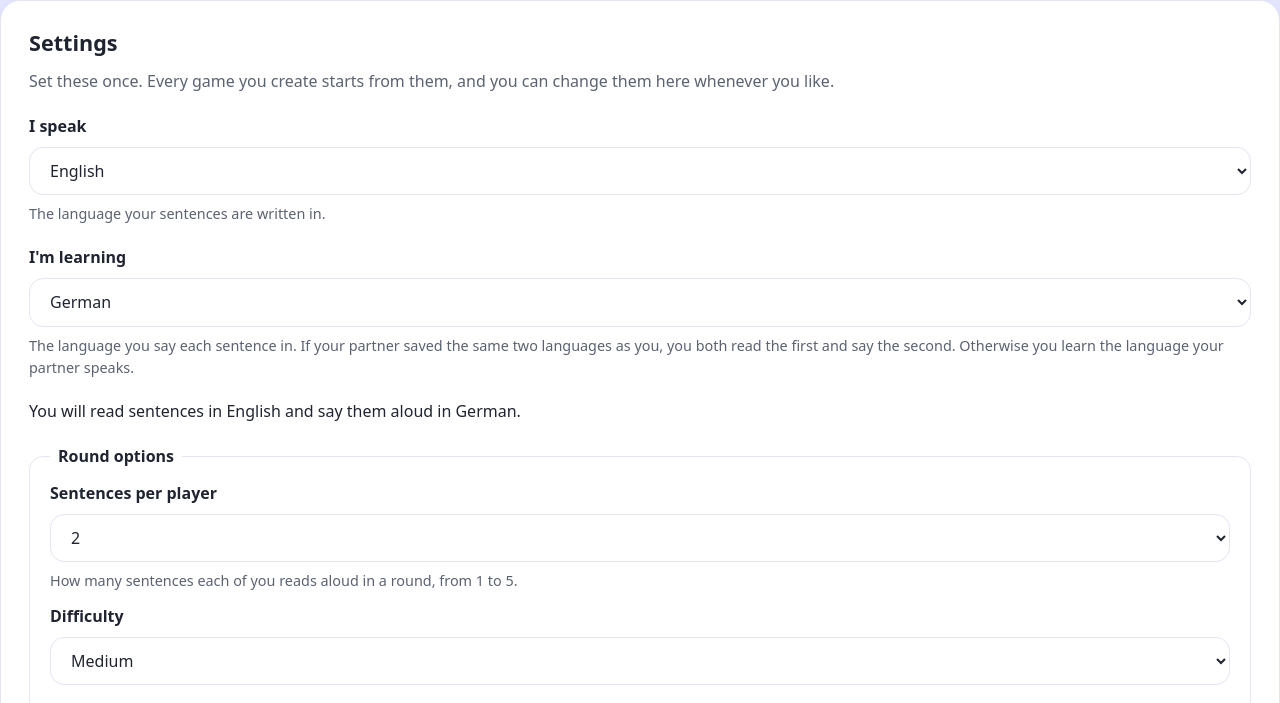
it: joining through an invite link › asks a guest without settings for them first, saves them and then joins
Check: the heading "Settings" is shown, box [29, 28, 118, 57]
Select "English" in the dropdown labelled "I speak" at (640, 171), box [29, 147, 1251, 195]
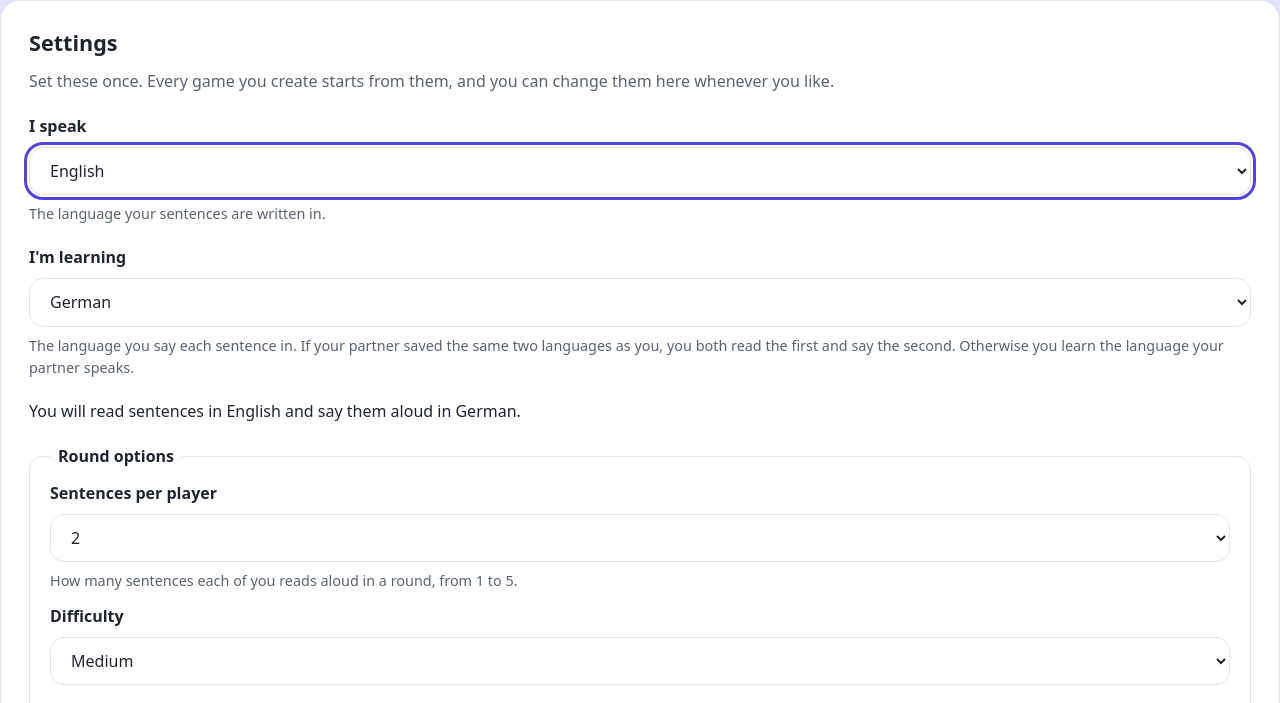
Select "German" in the dropdown labelled "I'm learning" at (640, 302), box [29, 278, 1251, 327]
(page scrolled)
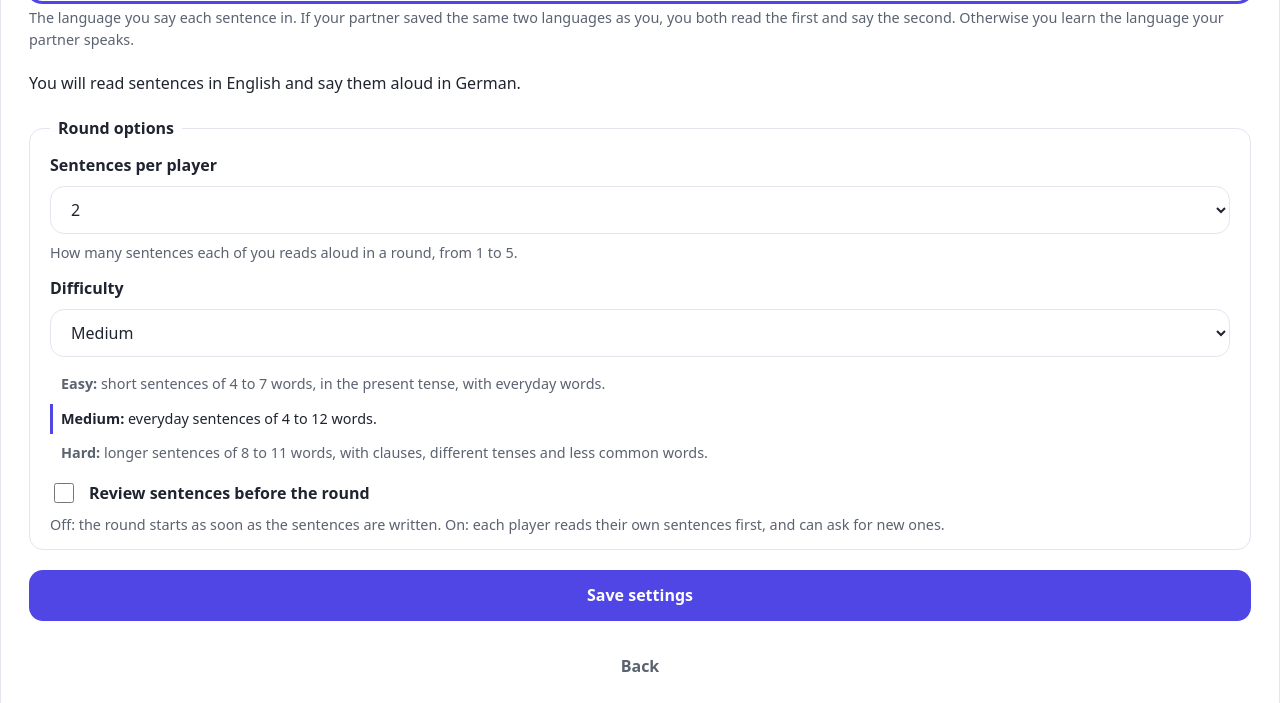
Click the button "Save settings" at (640, 595), box [29, 570, 1251, 621]
(page scrolled)
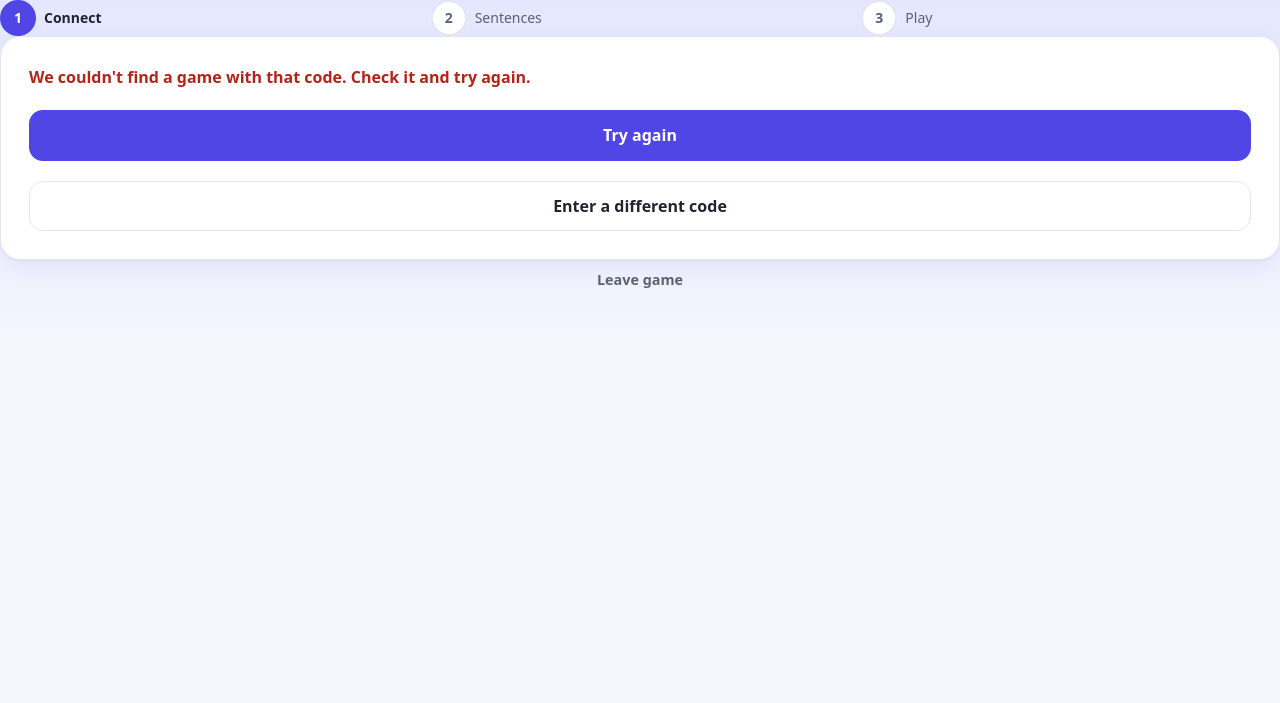
Check: the message shows "couldn't find a game", box [29, 66, 531, 88]
